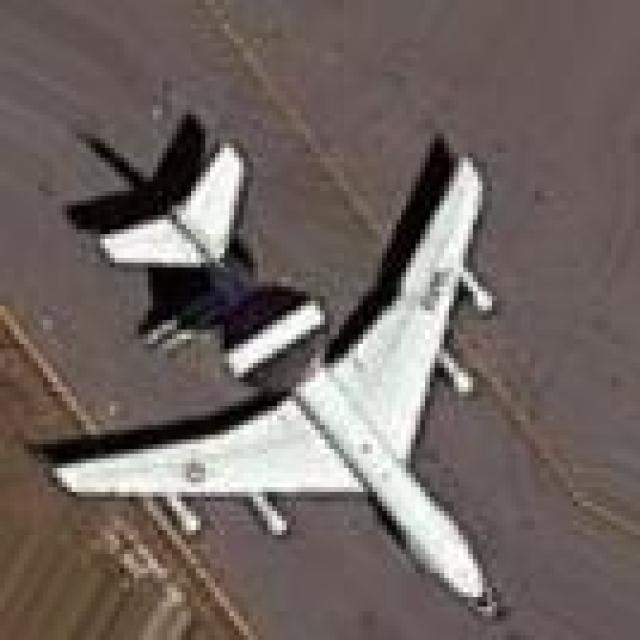E-3_TopDown: (38, 110, 523, 636)
